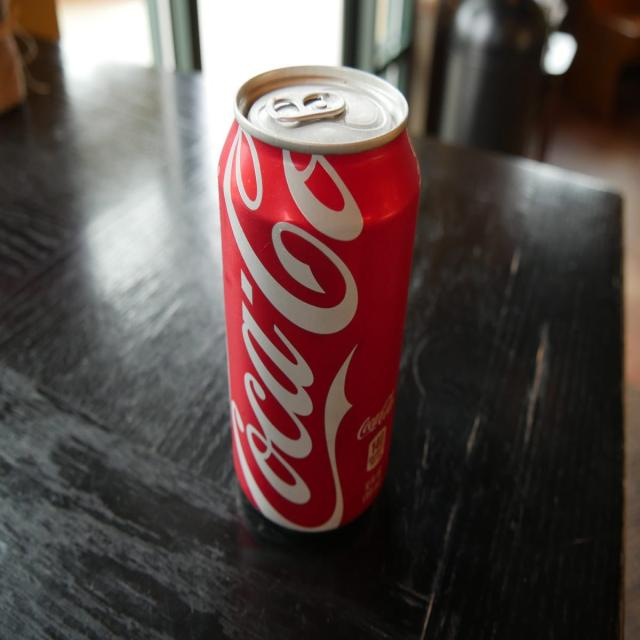cocacola: (213, 61, 425, 546)
